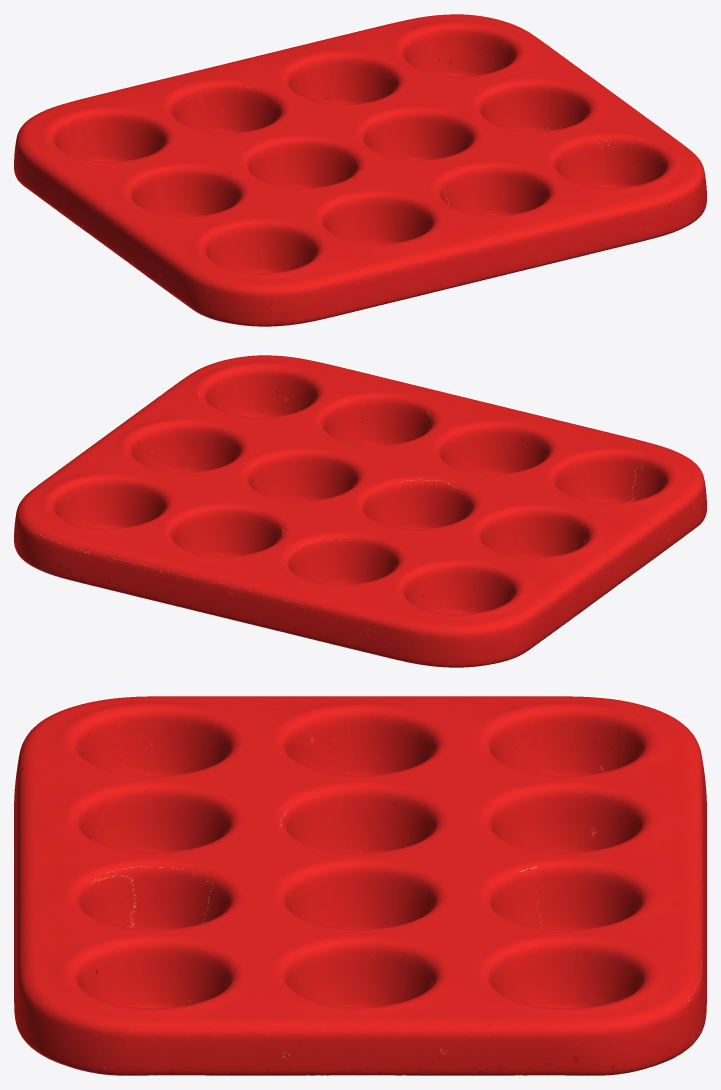
The picture shows the model from 3 angles, top to bottom: view 1: azimuth 30°, elevation 25°; view 2: azimuth 150°, elevation 25°; view 3: azimuth 270°, elevation 25°; orthographic projection. The views are drawn at different scales.
Size of the model in its own units: 1.68 by 0.1756 by 1.46.
Materials: 1 (1 with a texture image).
